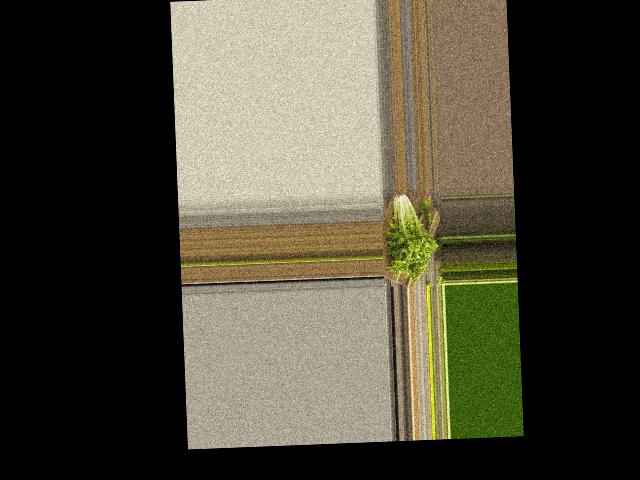lettuce: (382, 188, 438, 279)
